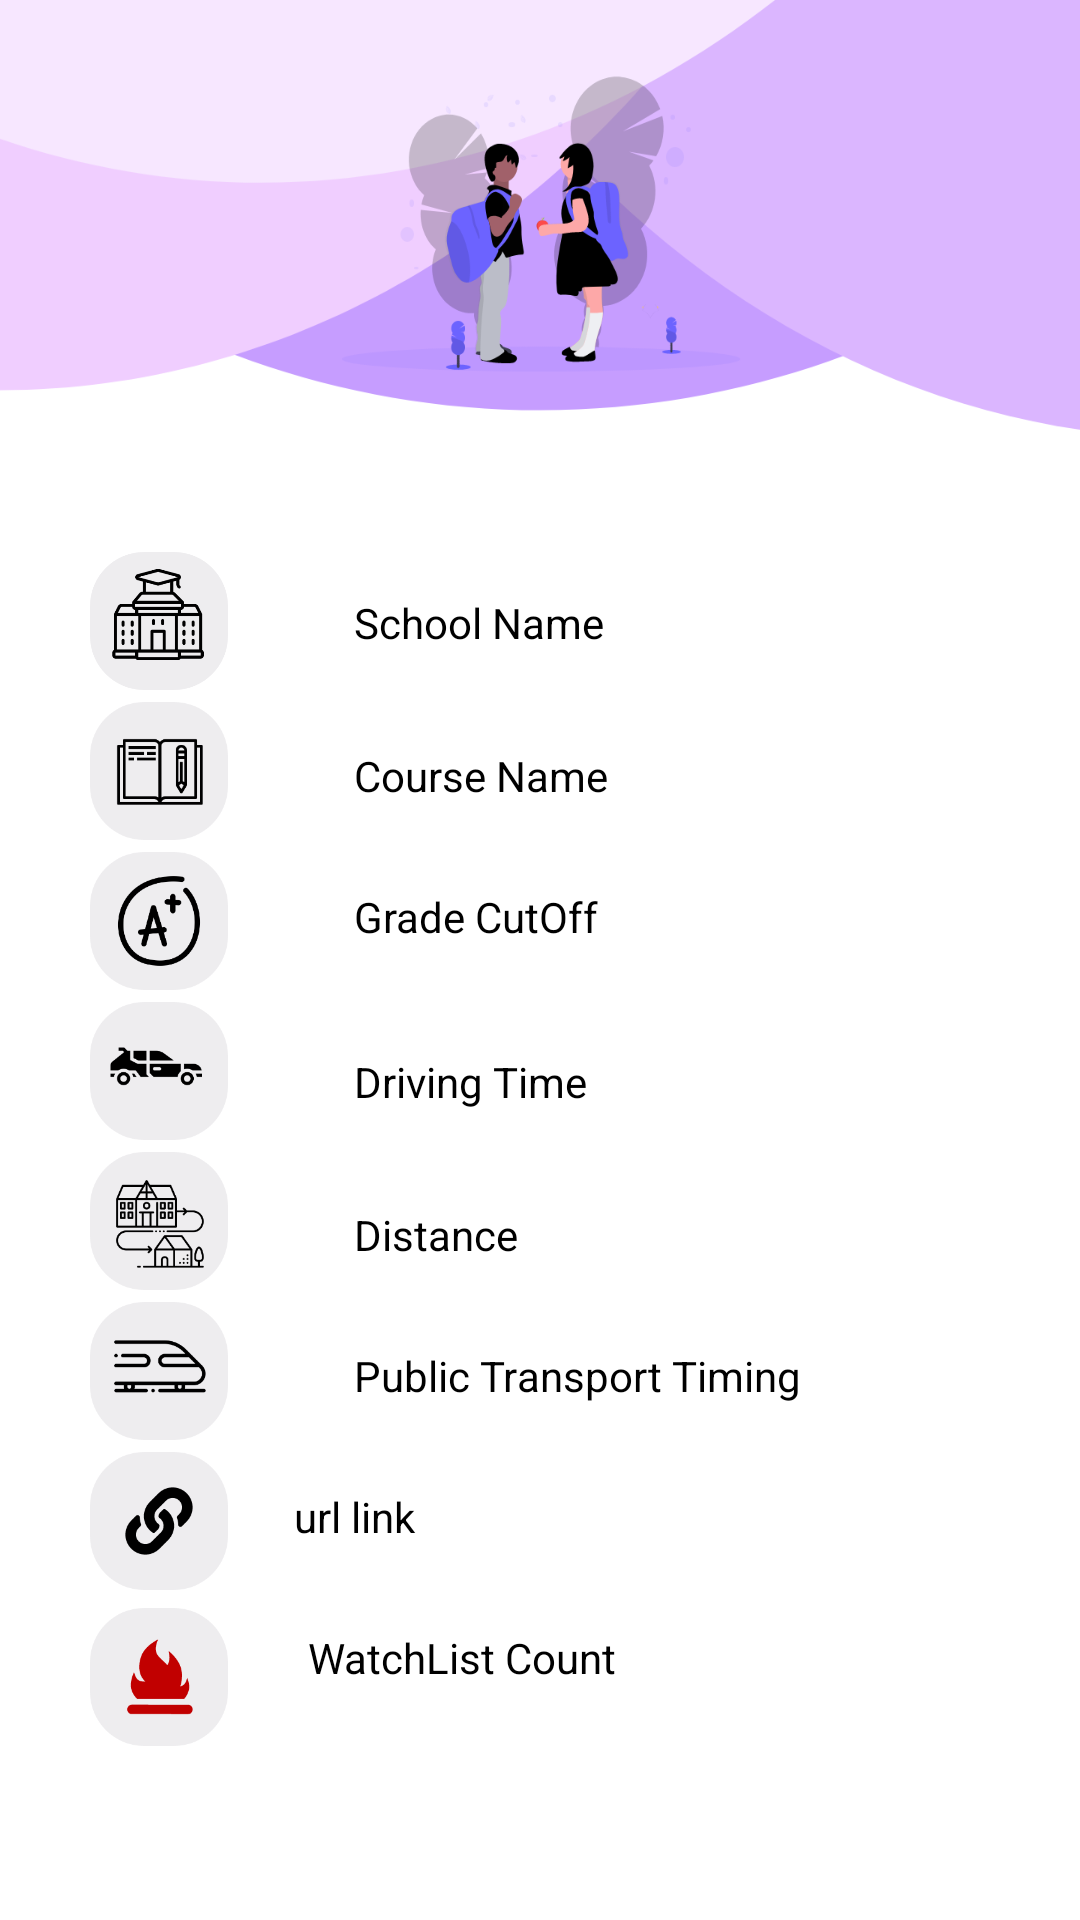

Named icons in this screenshot (1080 x 1920) and their bounding boxes, (x1, y1, x2, y2):
fire: (127, 1639, 193, 1715)
